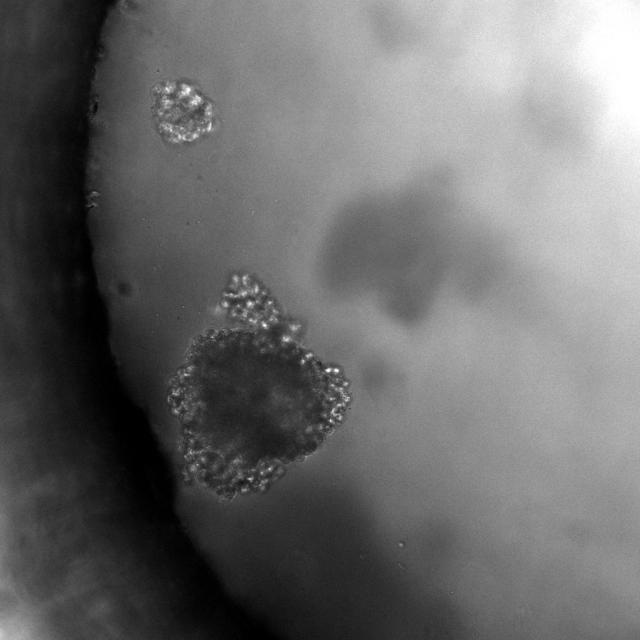organoid: (168, 274, 350, 500), (152, 80, 219, 143)
